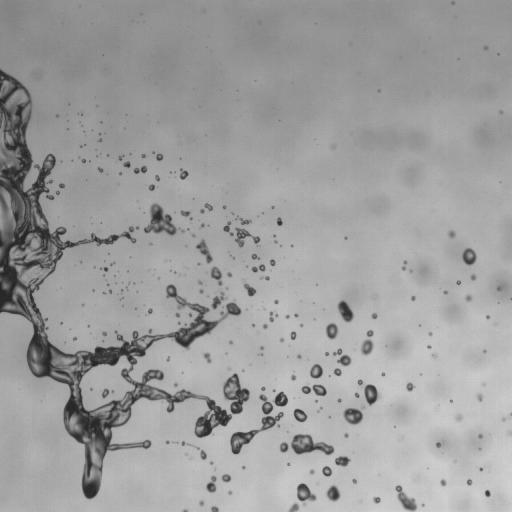droplet: (144, 203, 185, 235), (288, 483, 316, 511), (235, 227, 260, 246), (337, 300, 354, 322), (343, 408, 363, 425), (333, 349, 351, 366), (210, 266, 222, 286), (462, 248, 476, 265), (326, 485, 340, 501), (325, 323, 338, 339), (293, 408, 307, 422), (243, 281, 256, 296), (309, 364, 322, 378), (206, 476, 216, 492), (335, 456, 350, 466), (223, 221, 233, 235), (102, 388, 113, 398), (322, 466, 332, 476), (269, 311, 278, 322), (202, 352, 211, 363), (179, 169, 188, 179), (221, 474, 231, 482), (406, 382, 414, 391), (180, 210, 190, 217), (156, 153, 163, 161), (204, 203, 212, 210), (333, 368, 341, 375), (290, 331, 296, 340), (448, 230, 455, 237), (455, 414, 462, 421), (123, 161, 130, 167), (251, 253, 258, 259), (465, 294, 471, 301), (440, 479, 446, 486), (484, 490, 490, 497), (373, 497, 380, 503), (277, 217, 282, 225), (477, 393, 482, 401), (148, 184, 154, 190), (470, 274, 476, 280), (371, 313, 377, 319), (291, 373, 296, 380), (211, 506, 218, 511), (261, 276, 269, 280), (270, 259, 275, 265), (147, 308, 152, 314), (467, 479, 472, 485), (98, 167, 103, 172), (59, 183, 64, 188), (309, 469, 314, 474), (102, 267, 108, 271), (507, 430, 511, 436), (181, 441, 187, 445), (118, 155, 123, 159), (155, 175, 159, 180), (227, 272, 231, 277), (175, 313, 180, 317), (262, 324, 267, 328), (102, 331, 106, 336), (354, 393, 359, 397), (436, 442, 440, 447), (352, 478, 356, 483), (199, 500, 203, 505), (200, 209, 204, 213), (198, 280, 202, 284), (199, 289, 203, 293), (443, 290, 447, 294), (411, 296, 415, 300), (274, 299, 278, 303), (294, 313, 298, 317), (432, 353, 436, 357), (261, 386, 265, 390), (344, 433, 348, 437), (478, 434, 482, 438), (479, 467, 483, 471), (331, 144, 334, 148), (81, 159, 85, 162), (222, 206, 226, 209), (457, 280, 460, 284), (285, 315, 289, 318), (279, 338, 283, 341), (229, 340, 232, 344), (297, 355, 301, 358), (338, 398, 341, 402), (502, 417, 505, 421), (166, 440, 169, 444), (142, 154, 145, 157), (56, 191, 59, 194), (201, 224, 204, 227), (497, 287, 500, 290), (188, 313, 191, 316), (486, 315, 489, 318), (300, 324, 303, 327), (429, 332, 432, 335), (73, 337, 76, 340), (325, 352, 328, 355), (166, 357, 169, 360), (227, 367, 230, 370), (381, 372, 384, 375), (174, 383, 177, 386), (228, 491, 231, 494), (258, 353, 262, 355), (500, 110, 502, 113), (98, 139, 101, 141), (119, 172, 121, 175), (231, 255, 233, 258), (111, 262, 113, 265), (428, 345, 430, 348), (260, 347, 263, 349), (483, 350, 486, 352), (210, 461, 212, 464), (287, 462, 289, 465), (484, 47, 486, 49), (409, 270, 411, 272), (226, 287, 228, 289), (109, 290, 111, 292), (252, 324, 254, 326)
ligament: (0, 68, 241, 499), (230, 391, 287, 454), (279, 434, 334, 455), (357, 379, 381, 404), (395, 485, 417, 511), (196, 240, 212, 263), (361, 330, 373, 355), (301, 384, 326, 396), (211, 290, 226, 309), (195, 446, 206, 459), (236, 216, 251, 224), (133, 165, 147, 173), (251, 264, 265, 272), (401, 260, 407, 270), (182, 509, 188, 511), (510, 414, 511, 417)
